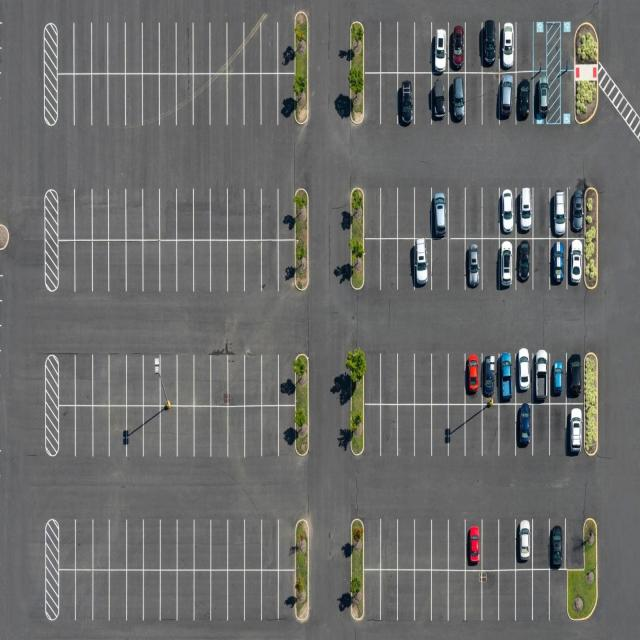space-empty: (49, 404, 80, 460), (524, 568, 553, 624), (70, 567, 97, 625), (51, 353, 80, 406), (222, 17, 249, 71), (70, 18, 96, 74), (71, 240, 96, 298), (258, 14, 283, 72), (55, 240, 80, 298), (71, 404, 96, 460), (107, 69, 131, 126), (240, 16, 264, 73), (54, 522, 80, 574), (514, 567, 538, 623), (158, 570, 182, 626), (176, 70, 200, 126), (155, 70, 179, 126), (71, 72, 94, 130), (277, 12, 300, 70), (138, 18, 163, 71), (86, 18, 110, 73), (126, 406, 150, 461), (106, 569, 129, 626), (125, 569, 148, 626), (105, 517, 130, 569), (565, 516, 590, 568), (71, 516, 95, 570), (107, 18, 131, 72), (156, 519, 180, 573), (140, 404, 164, 458), (156, 405, 180, 459), (224, 69, 247, 125), (208, 70, 231, 126), (174, 570, 197, 626), (140, 570, 163, 626), (55, 190, 80, 241), (158, 354, 182, 407), (90, 569, 112, 626), (71, 190, 95, 242), (107, 189, 131, 241), (176, 520, 200, 572), (140, 354, 164, 406), (105, 353, 129, 405), (207, 21, 231, 73), (124, 189, 148, 241), (190, 19, 214, 71), (176, 23, 200, 75), (140, 190, 164, 242), (396, 16, 419, 70), (140, 515, 163, 569), (88, 404, 111, 458), (124, 240, 147, 294), (193, 350, 216, 404), (177, 405, 200, 459), (88, 241, 110, 297), (193, 570, 215, 626), (192, 70, 214, 126), (88, 69, 110, 125), (225, 566, 247, 622), (123, 73, 145, 129), (72, 354, 95, 407), (192, 517, 215, 570), (125, 516, 148, 569), (209, 350, 232, 403), (157, 20, 180, 73), (177, 351, 200, 404), (414, 17, 436, 72), (209, 403, 231, 458), (108, 241, 130, 296), (106, 406, 128, 461), (514, 22, 538, 72), (479, 518, 502, 570), (224, 188, 247, 240), (156, 190, 179, 242), (92, 354, 114, 408), (464, 404, 486, 458), (464, 569, 486, 623), (192, 405, 214, 459), (260, 70, 282, 124), (208, 187, 230, 241), (156, 240, 178, 294), (123, 19, 145, 73), (139, 74, 161, 128), (140, 239, 162, 293), (531, 185, 553, 239), (481, 70, 502, 126), (87, 190, 110, 241), (446, 186, 468, 239), (481, 187, 503, 240), (444, 349, 466, 402), (529, 517, 551, 570), (176, 188, 198, 241), (398, 238, 419, 293), (481, 571, 502, 626), (209, 239, 230, 294), (447, 571, 468, 626), (209, 570, 230, 625), (534, 240, 555, 295), (414, 186, 436, 238), (242, 518, 264, 570), (90, 517, 112, 569), (226, 518, 248, 570), (397, 188, 419, 240), (496, 520, 518, 572), (126, 355, 148, 407), (377, 240, 398, 294), (432, 404, 453, 458), (193, 240, 214, 294), (445, 403, 466, 457), (209, 515, 230, 569), (447, 515, 468, 569), (429, 518, 450, 572), (430, 348, 451, 402), (377, 349, 398, 403), (226, 350, 247, 404), (193, 187, 214, 241), (260, 570, 281, 624), (360, 347, 381, 401), (461, 22, 483, 73), (262, 519, 284, 570), (360, 519, 382, 570), (380, 72, 400, 128), (447, 238, 468, 291), (497, 403, 518, 456), (413, 350, 434, 403), (466, 71, 486, 126), (432, 571, 452, 626), (242, 569, 262, 624), (243, 73, 263, 128), (481, 404, 502, 456), (395, 516, 416, 568), (530, 404, 551, 456), (465, 187, 486, 239), (361, 22, 382, 74), (261, 188, 282, 240), (496, 571, 516, 625), (414, 404, 434, 458), (379, 570, 399, 624), (226, 241, 246, 295), (396, 349, 416, 403), (178, 240, 198, 294), (242, 350, 262, 404), (361, 187, 382, 238), (432, 238, 452, 291), (414, 75, 434, 128), (482, 239, 502, 292), (414, 515, 434, 568), (362, 570, 382, 623), (362, 73, 381, 128), (377, 186, 397, 238), (380, 516, 400, 568), (378, 20, 398, 72), (228, 406, 248, 458), (549, 404, 569, 456), (361, 405, 381, 457), (262, 352, 282, 404), (398, 404, 417, 458), (398, 570, 417, 624), (379, 404, 398, 458), (414, 571, 433, 625), (362, 238, 381, 292), (530, 22, 550, 72), (244, 407, 263, 459), (263, 407, 282, 459), (262, 239, 280, 293), (244, 240, 262, 294), (243, 188, 262, 238), (278, 240, 296, 291)
space-occupied: (531, 68, 560, 128), (564, 351, 587, 404), (496, 71, 518, 126), (568, 183, 590, 238), (495, 351, 517, 406), (479, 352, 501, 406), (496, 22, 519, 73), (479, 21, 502, 72), (565, 402, 586, 457), (547, 348, 568, 403), (533, 349, 554, 404), (514, 186, 536, 238), (513, 350, 534, 404), (396, 72, 416, 128), (516, 70, 536, 126), (515, 240, 536, 293), (551, 185, 572, 238), (550, 239, 570, 294), (447, 22, 468, 74), (497, 186, 518, 238), (432, 186, 453, 238), (414, 238, 434, 292), (566, 239, 586, 293), (463, 238, 483, 292), (447, 74, 468, 125), (430, 21, 451, 72), (430, 73, 450, 126), (464, 352, 484, 405), (550, 516, 570, 569), (464, 518, 484, 570), (515, 518, 535, 570), (515, 405, 535, 456), (497, 240, 516, 293), (544, 22, 564, 71)
